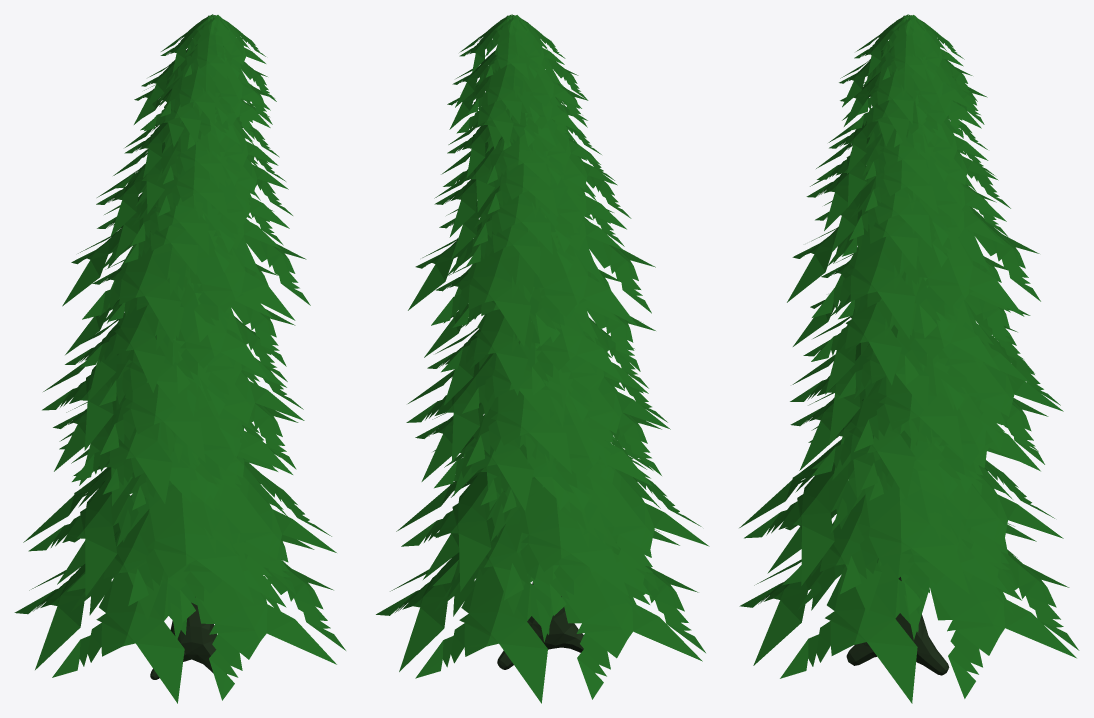
The model's file is tree_01.fbx.
3 views of the same model, side by side, from view 1: azimuth 30°, elevation 25°; view 2: azimuth 150°, elevation 25°; view 3: azimuth 270°, elevation 25° (orthographic). The views are drawn at different scales.
Parts seen in each view (by area): view 1: Cube.003, Cube.004; view 2: Cube.003, Cube.004; view 3: Cube.003, Cube.004.
Boxes of the visible parts, x1,y1,x2,y2 form: Cube.003: (14,14,345,703); Cube.004: (150,597,216,679); Cube.003: (376,14,709,703); Cube.004: (497,16,583,669); Cube.003: (739,14,1079,703); Cube.004: (846,577,949,675).
Bounding box in the file's own units: 205 × 408 × 191.
